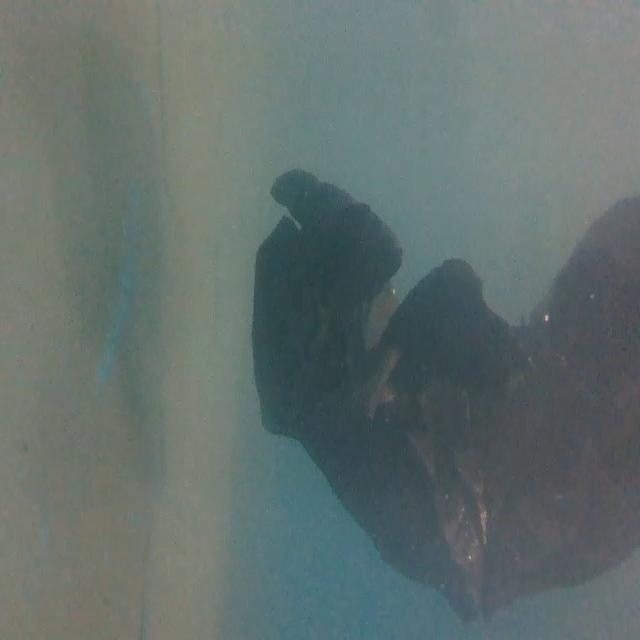plastic bags: (250, 169, 637, 615)
